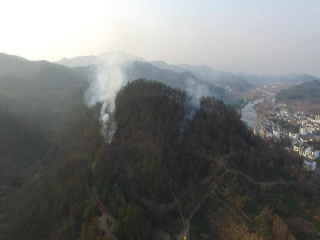smoke: (82, 61, 132, 143), (178, 74, 209, 136)
